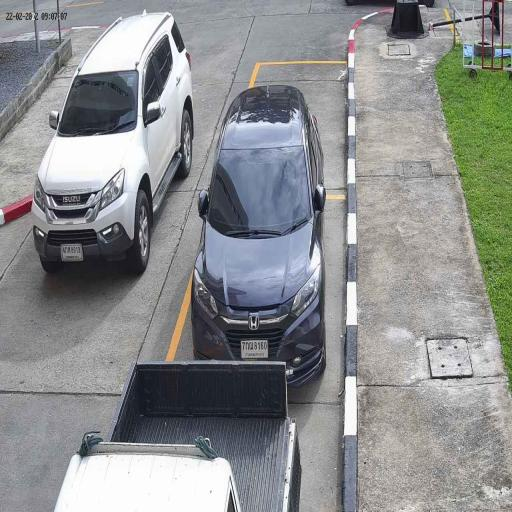car: (28, 12, 192, 274), (191, 79, 327, 390), (56, 362, 303, 512)
